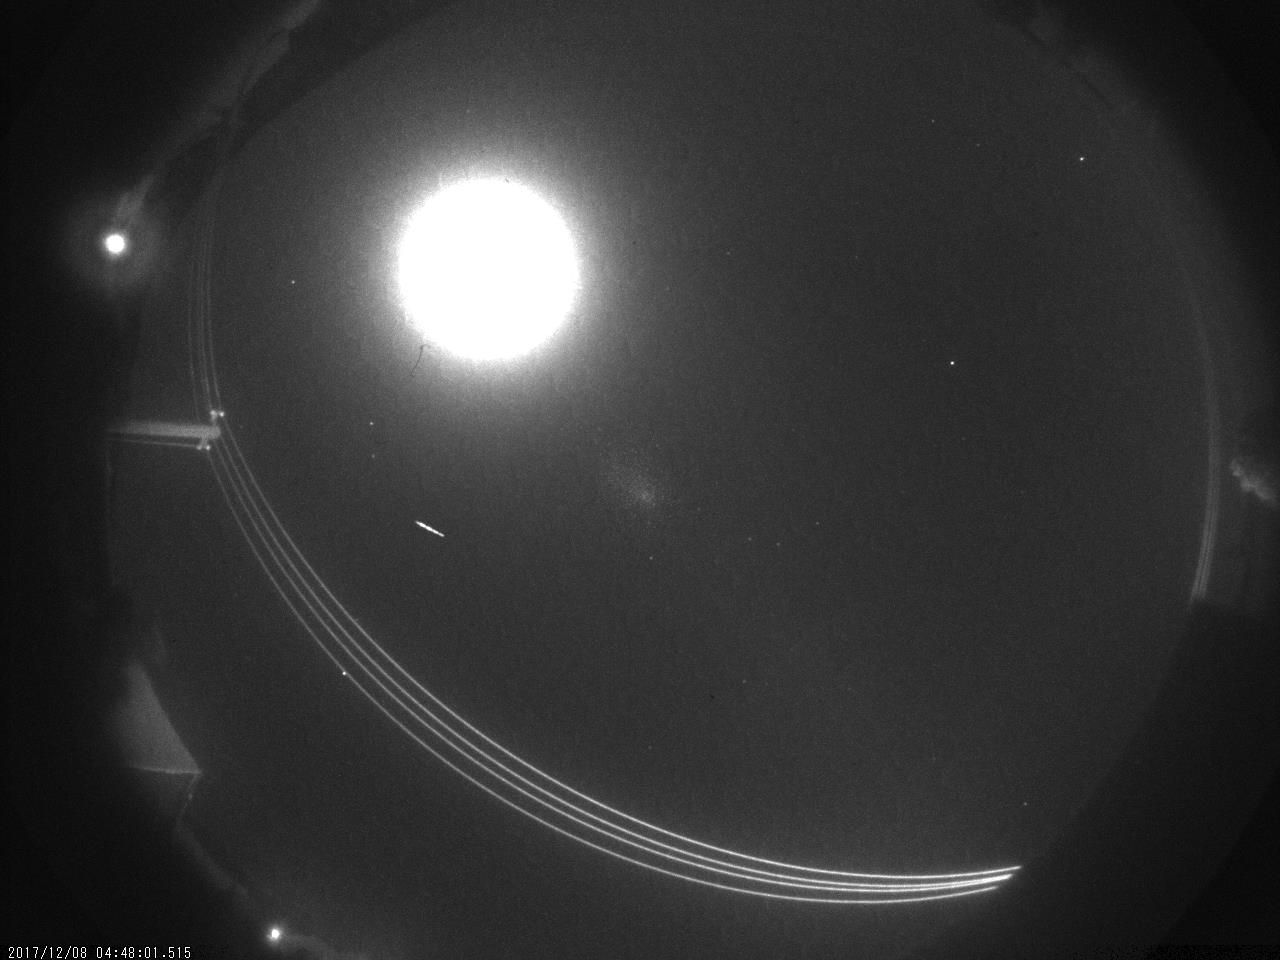meteor: (395, 508, 466, 552)
